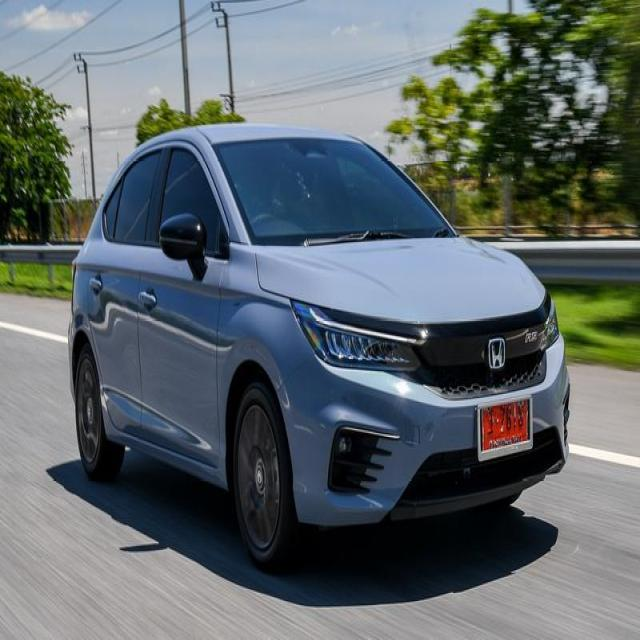Hatchback: (67, 124, 572, 573)
